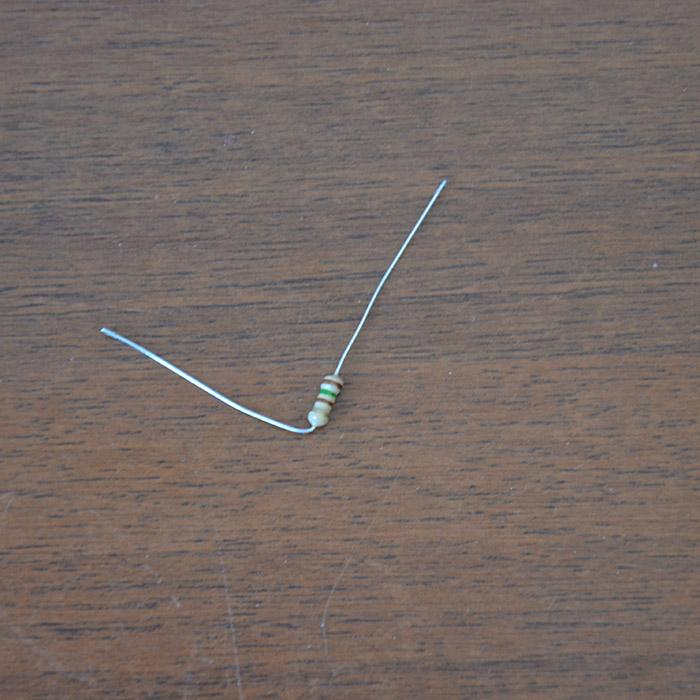resistor: (308, 372, 344, 427)
